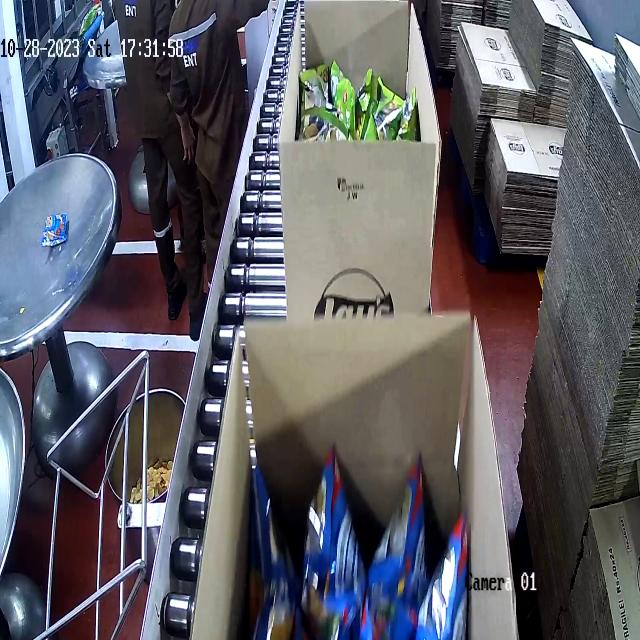PAPRIKA: (245, 439, 488, 640)
